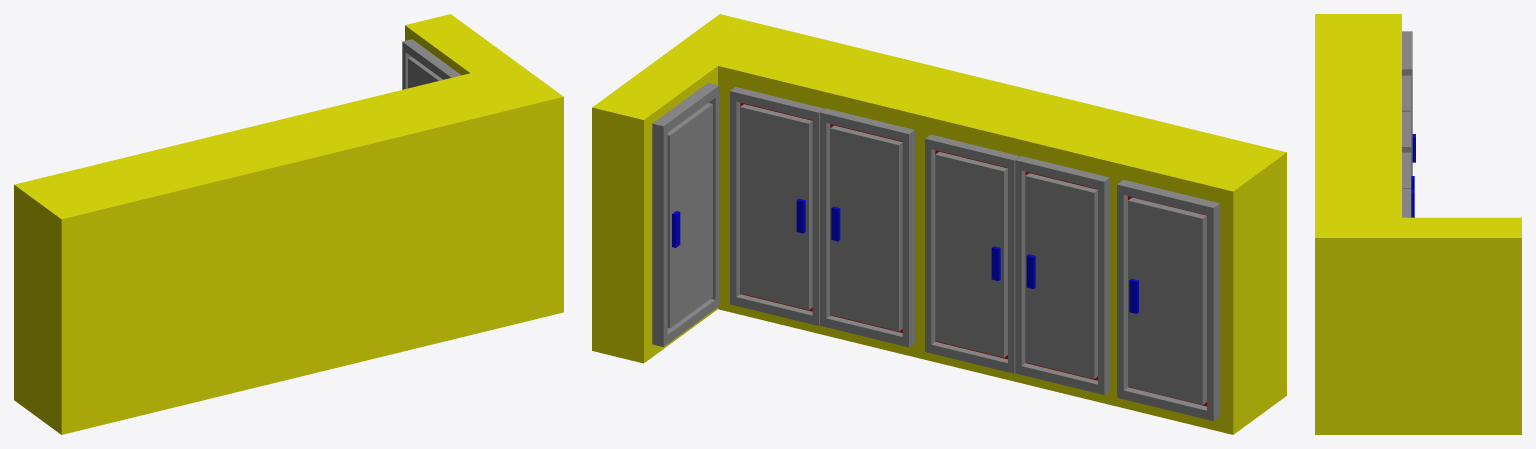
File: Big_Armoire1.fbx
3 renders of one model, left to right at view 1: azimuth 30°, elevation 25°; view 2: azimuth 150°, elevation 25°; view 3: azimuth 270°, elevation 25°, orthographic. The views are drawn at different scales.
Parts seen in each view (by area): view 1: pCube188; view 2: pCube188; view 3: pCube188.
Boxes of the visible parts, bbox=[...] form: pCube188: bbox=[14, 14, 563, 434]; pCube188: bbox=[592, 14, 1286, 434]; pCube188: bbox=[1315, 14, 1521, 434].
Bounding box in the file's own units: 346 × 142 × 135.
